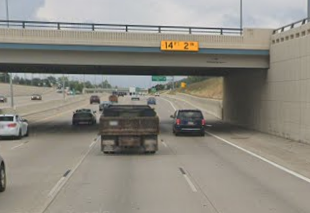1: (163, 40, 168, 50)
2: (183, 41, 189, 51)
4: (167, 40, 175, 50)
overheadsign: (161, 40, 199, 52)
